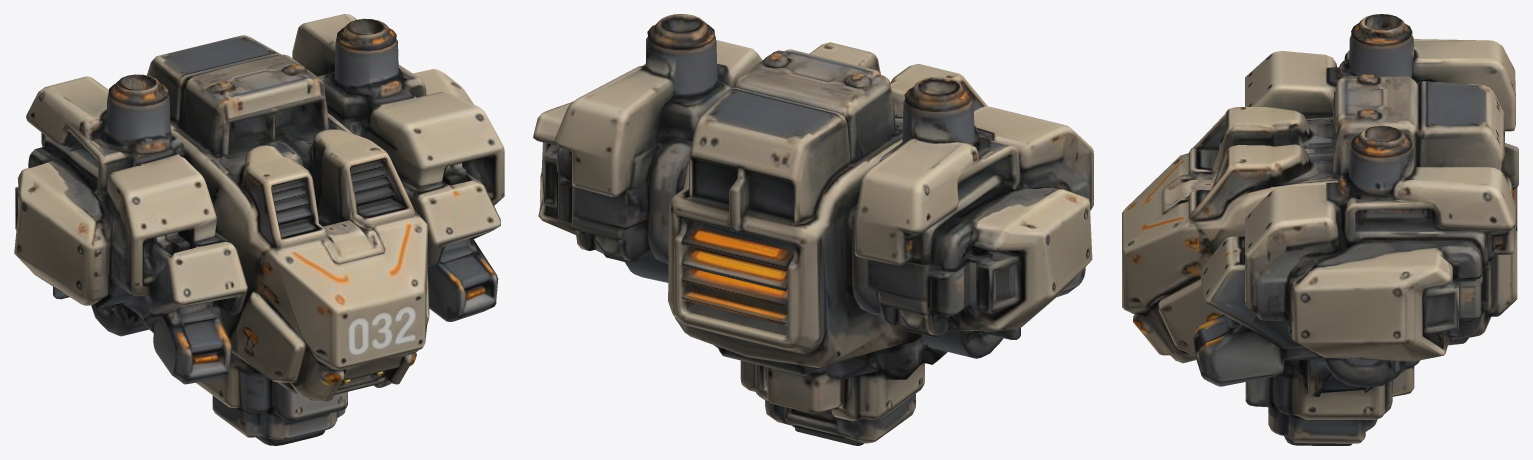
The model's file is 01_Torso.glb.
3 renders of one model, left to right at view 1: azimuth 30°, elevation 25°; view 2: azimuth 150°, elevation 25°; view 3: azimuth 270°, elevation 25°, orthographic. The views are drawn at different scales.
Visible parts, largest first — view 1: 01_Torso; view 2: 01_Torso; view 3: 01_Torso.
Part boxes in pixels (bbox=[...]): 01_Torso: bbox=[14, 14, 504, 445]; 01_Torso: bbox=[533, 14, 1093, 445]; 01_Torso: bbox=[1122, 14, 1518, 445].
Bounding box in the file's own units: 0.9995 × 0.7427 × 0.7563.
Materials: 1 (1 with a texture image).
